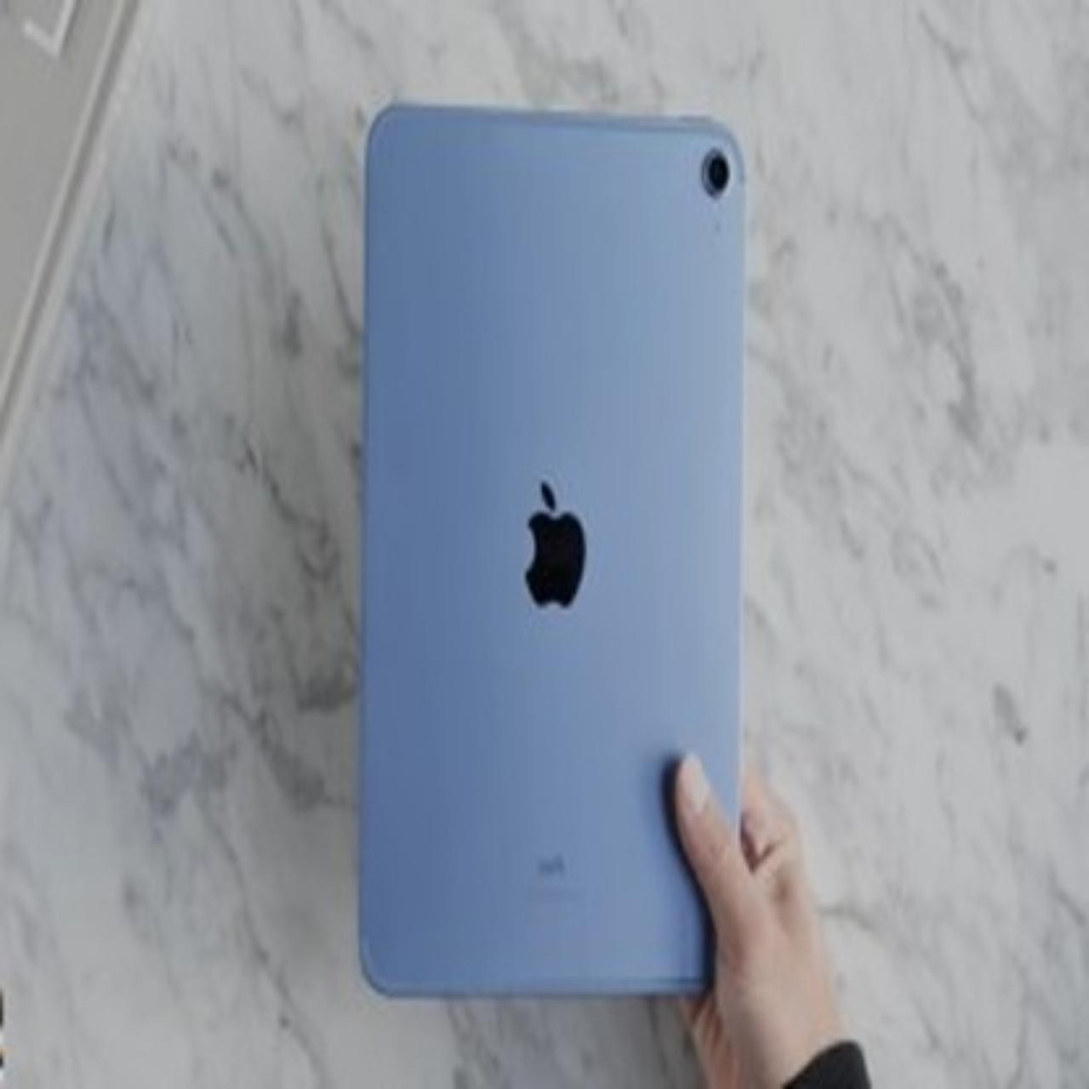Tablet_PC: (322, 100, 770, 1010)
